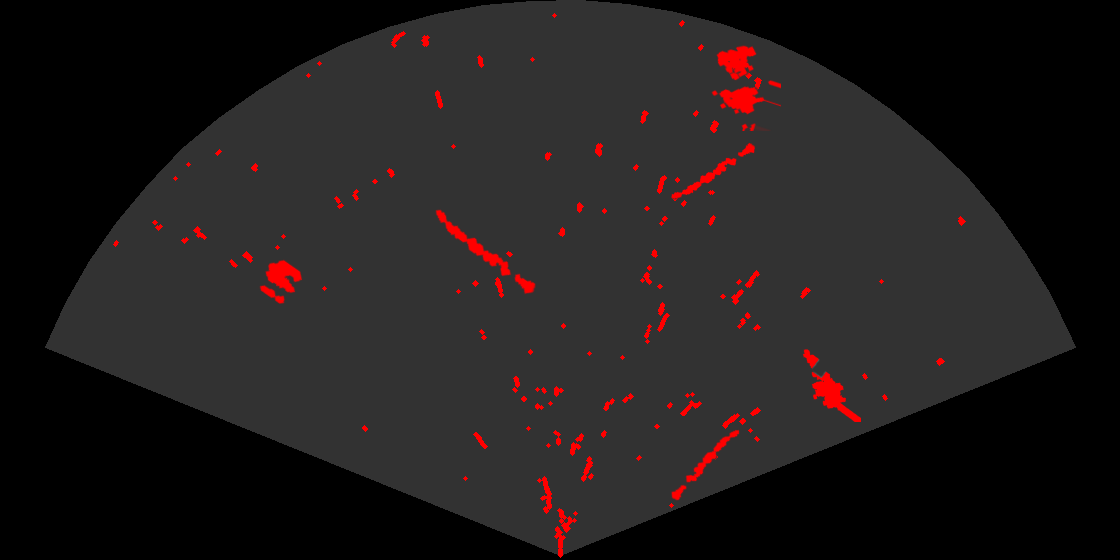ball: (258, 258, 304, 305)
cage: (710, 44, 781, 131)
chain: (434, 208, 537, 296), (670, 428, 741, 502), (670, 141, 757, 200)
frogman: (801, 348, 861, 422)
